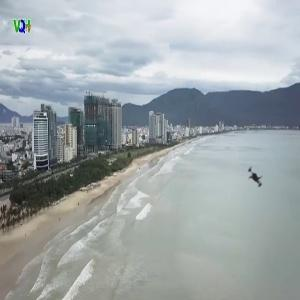drone: (234, 159, 277, 202)
